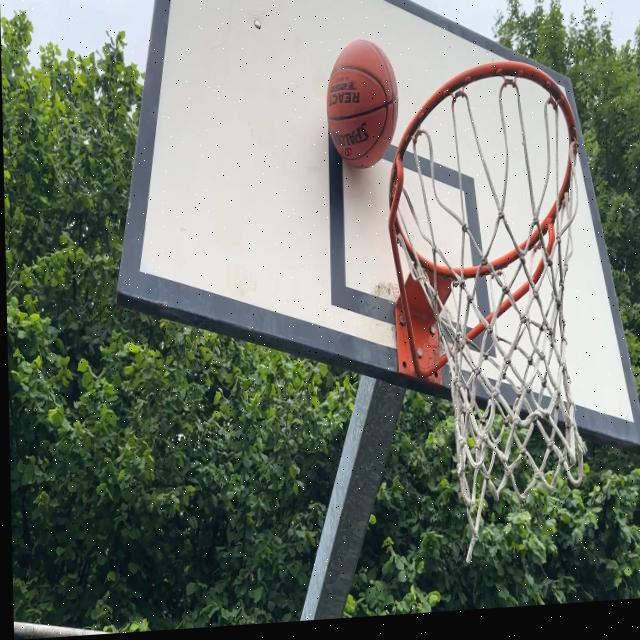rebound_hit: (325, 36, 400, 174)
